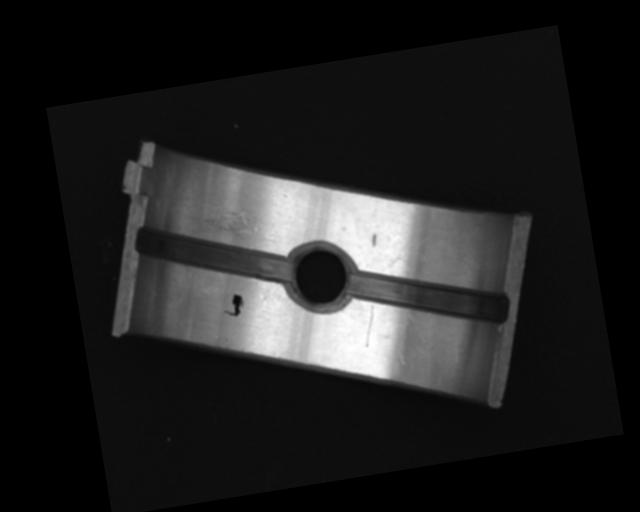blot: (220, 291, 246, 319)
bruise: (369, 232, 379, 248)
gap: (133, 205, 294, 304), (346, 248, 510, 344)
hole: (281, 239, 360, 318)
nick: (359, 304, 381, 347)
scratch: (177, 202, 276, 261)
